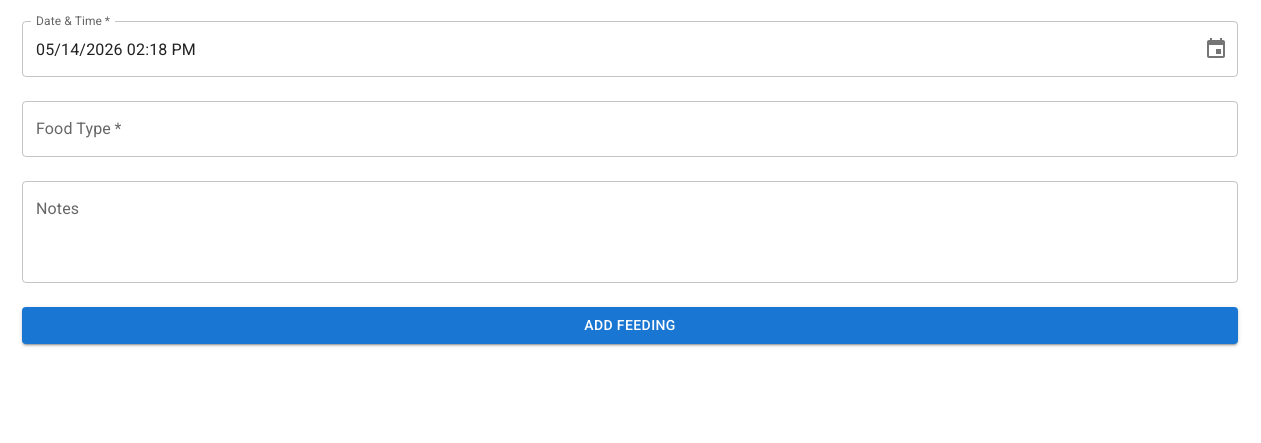
FeedingForm › shows validation error if food type is empty
Click the button "Add Feeding": x=630, y=325 [22,307,1238,344]
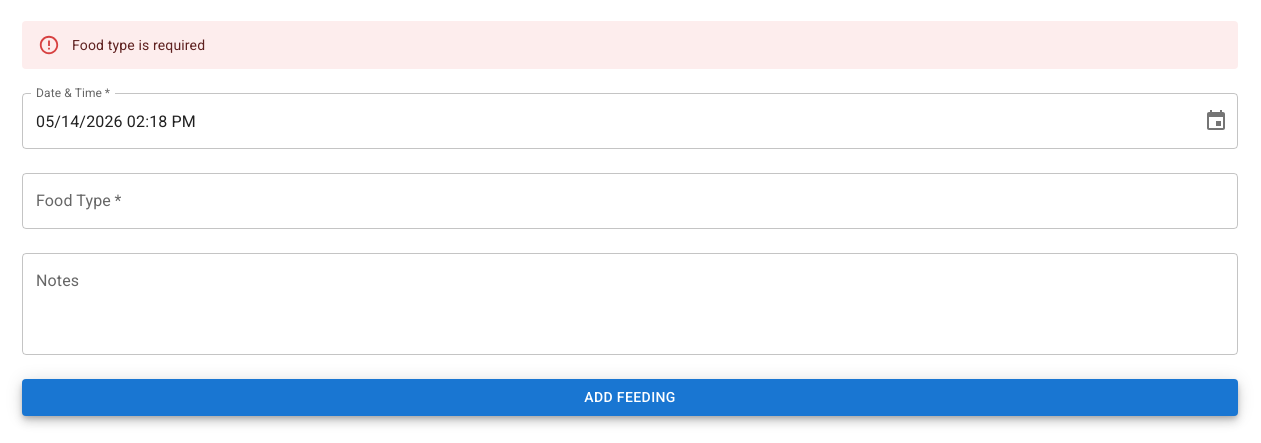
Expected: the text "Food type is required" is shown, [72,37,205,53]
